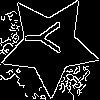Y: (24, 20, 69, 55)
